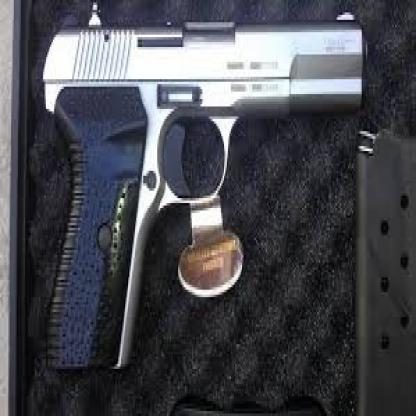Pistol: (39, 3, 368, 377)
